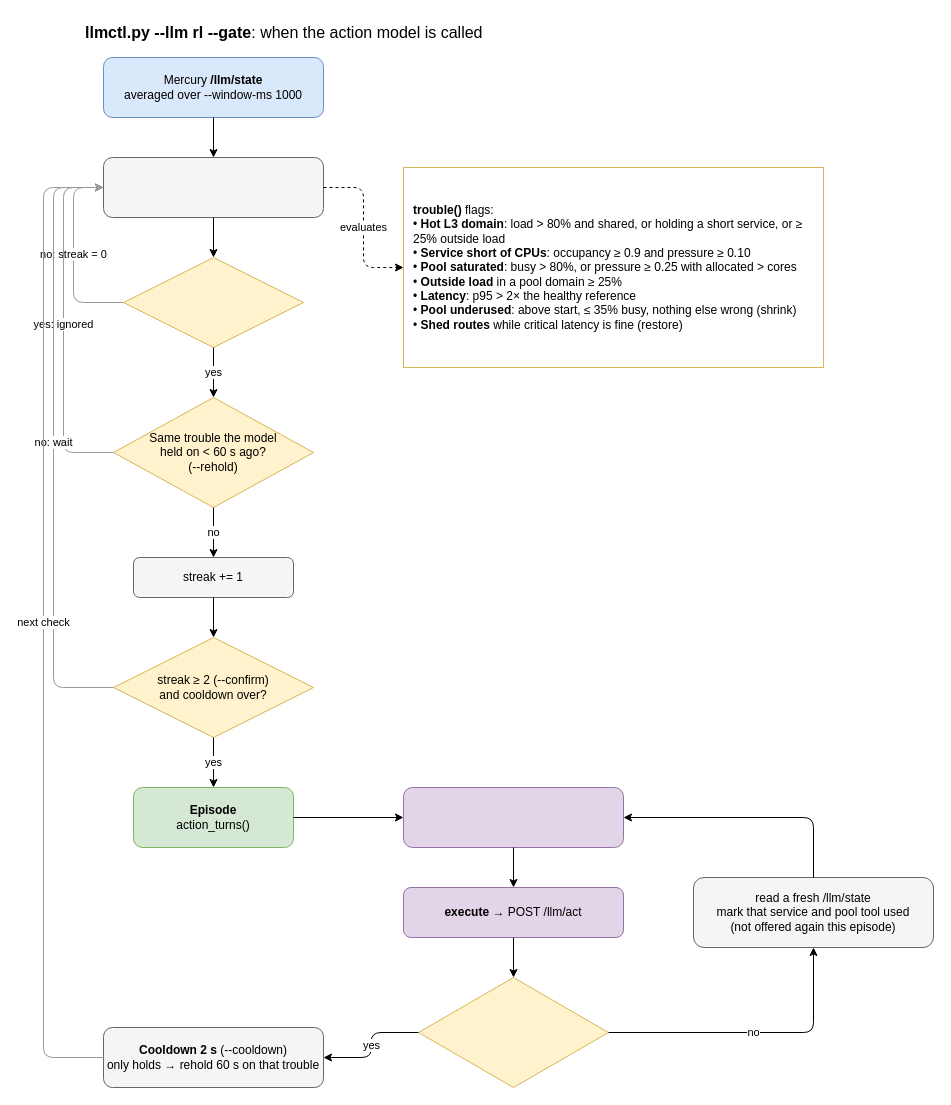
The diagram is 951 pixels wide and 1105 high, and some of its shapes have lost their labels. Each missing label, with the centre of its shape:
"Any trouble?" belongs at point (213, 302).
"Check every --every 0.5 s log check + outcome (reward input)" belongs at point (213, 187).
"choose (model, state, used) legality mask applied" belongs at point (513, 817).
"hold, refused, or 6 calls? (--max-actions)" belongs at point (513, 1032).
